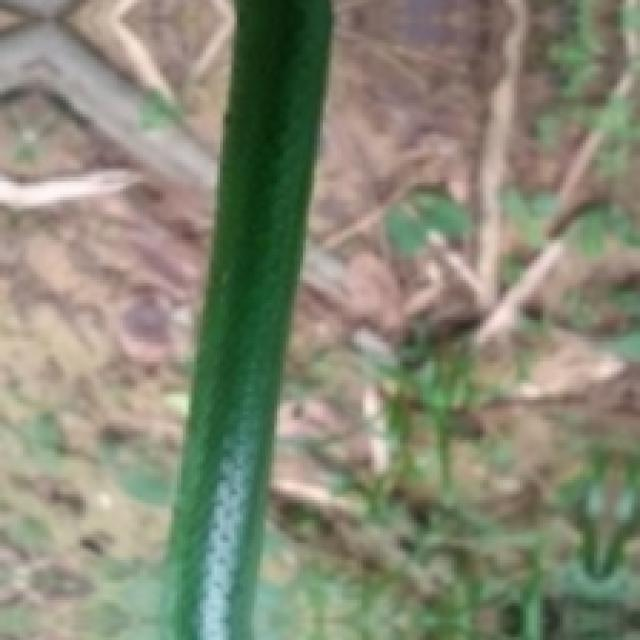red-tailed green ratsnake: (169, 0, 329, 637)
